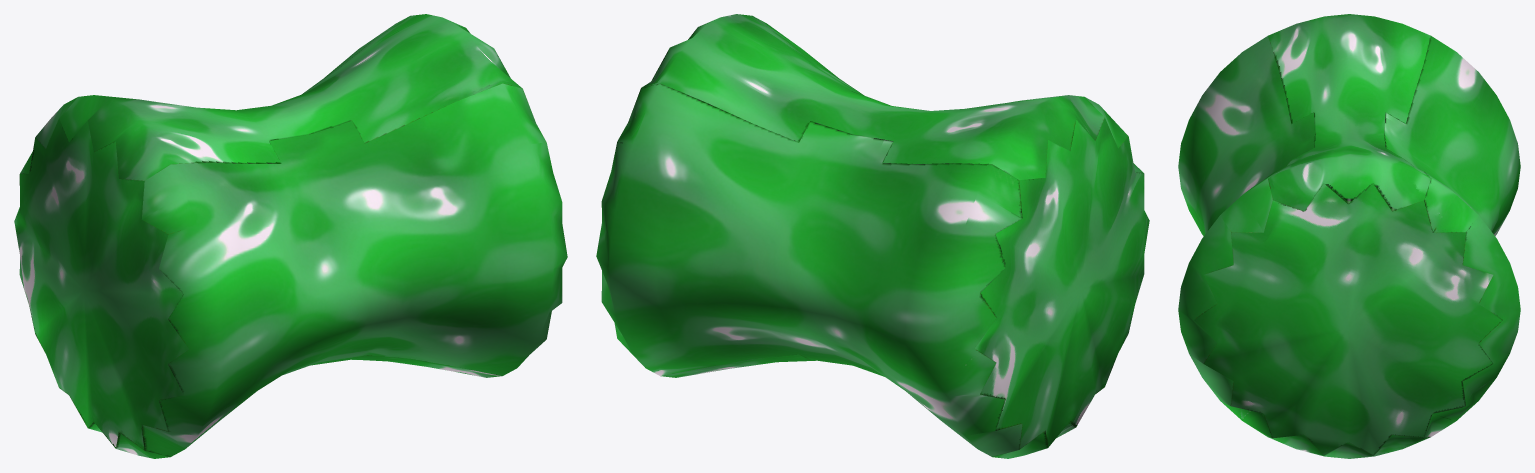
The model's file is attach_jelly_Green.FBX.
3 views of the same model, side by side, from view 1: azimuth 30°, elevation 25°; view 2: azimuth 150°, elevation 25°; view 3: azimuth 270°, elevation 25° (orthographic). The views are drawn at different scales.
Visible parts, largest first — view 1: 접착; view 2: 접착; view 3: 접착.
Part boxes in pixels (x1,y1,x2,y2): 접착: (14,14,567,458); 접착: (596,14,1149,458); 접착: (1178,14,1520,458).
Bounding box in the file's own units: 4.03 × 3.26 × 3.17.
1 material, 1 textured.
